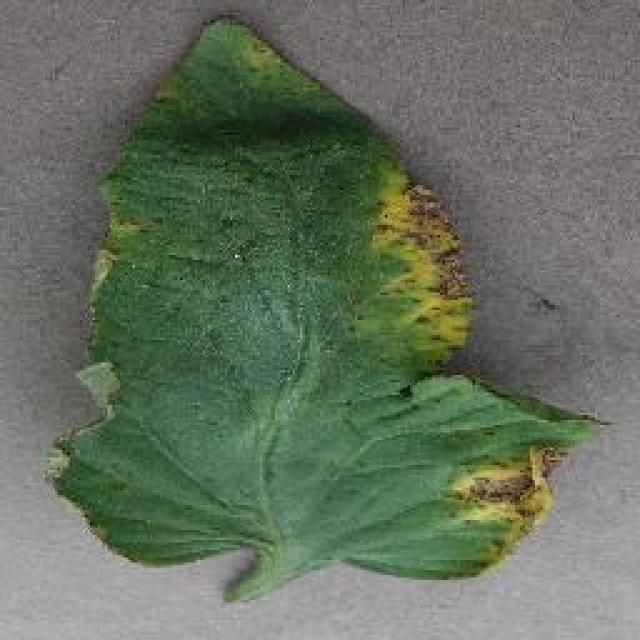Tomato bacterial spot leaf: (79, 10, 589, 602)
